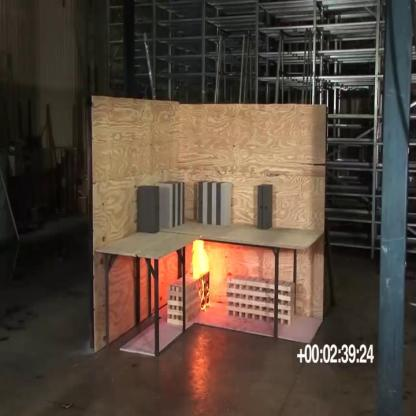fire: (190, 238, 213, 309)
